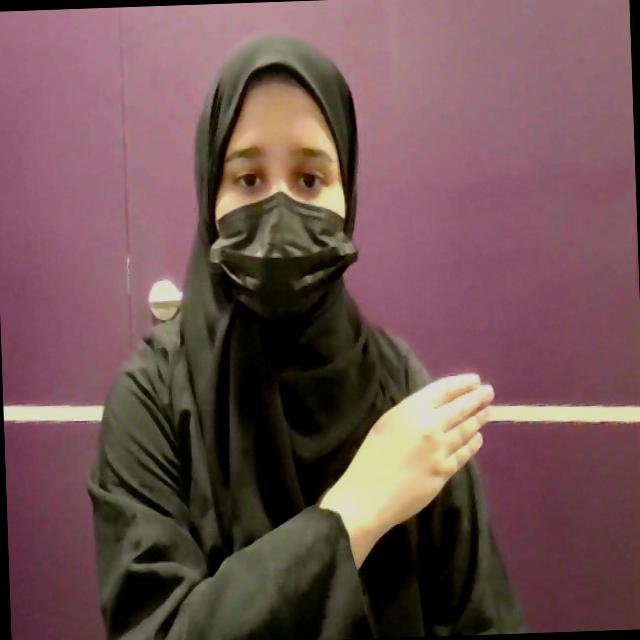result: (336, 366, 499, 538)
